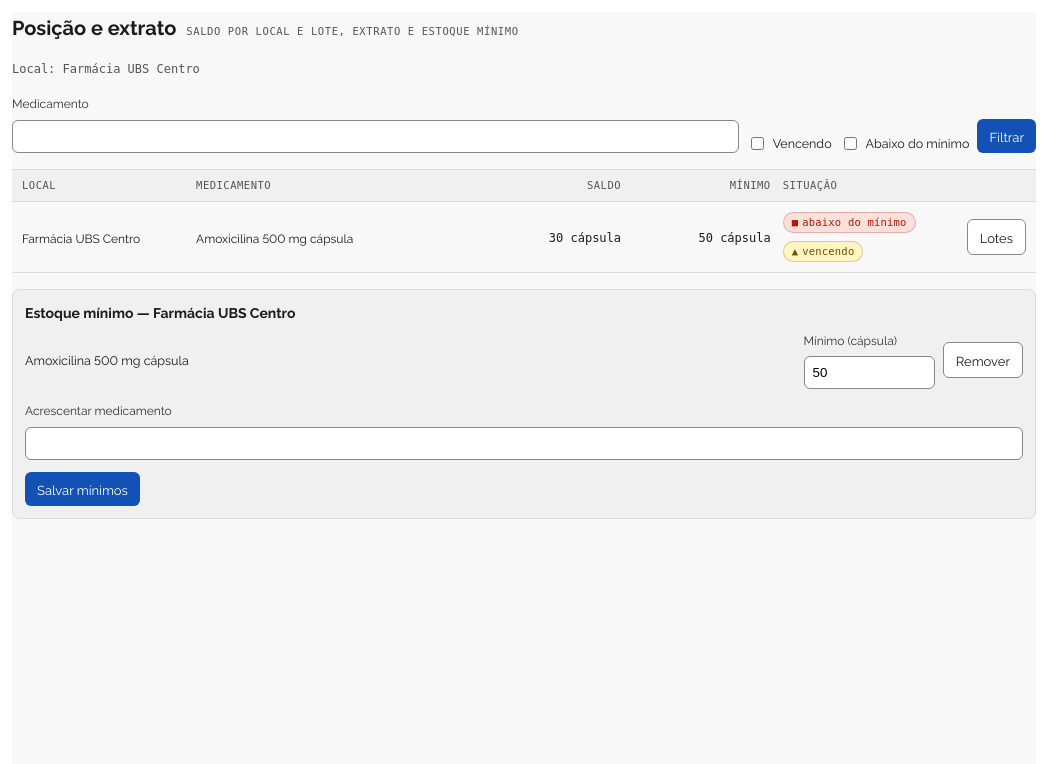
Test: PharmacyStock › extrato do lote: movimentos com sinal e documento; dispensação sem nome de paciente
Click the button with aria-label "Lotes de Amoxicilina 500 mg cápsula" at (996, 237), box [967,219,1026,255]
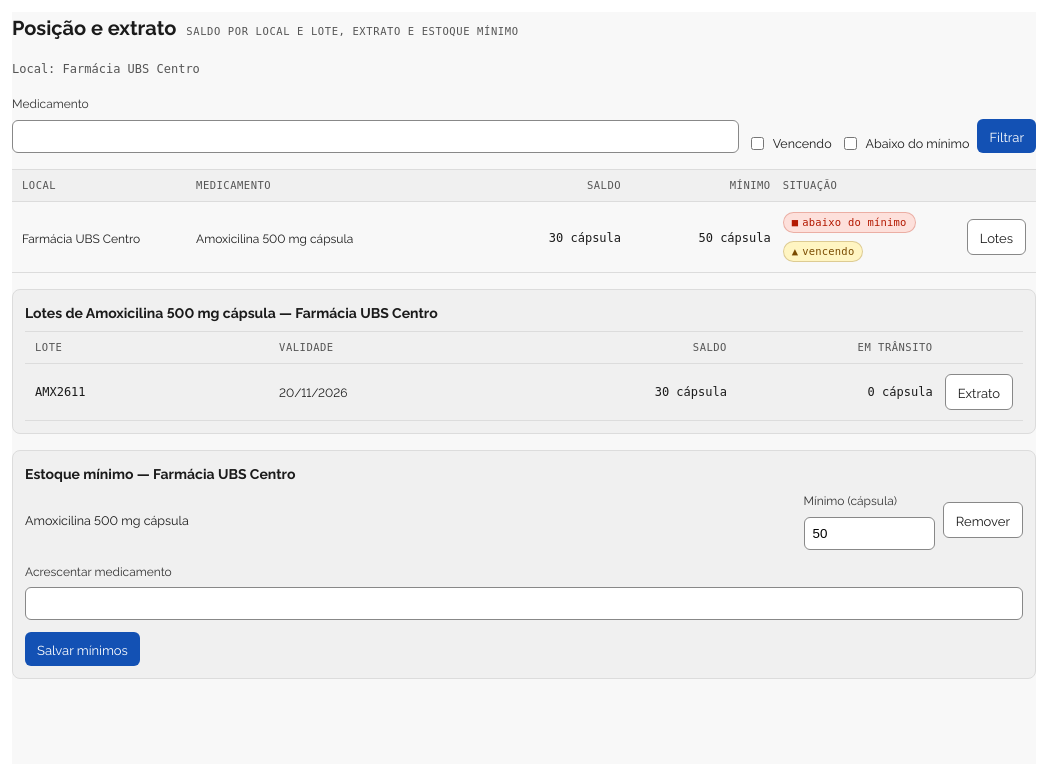
Click the button with aria-label "Extrato do lote AMX2611" at (979, 392), box [945,374,1013,410]
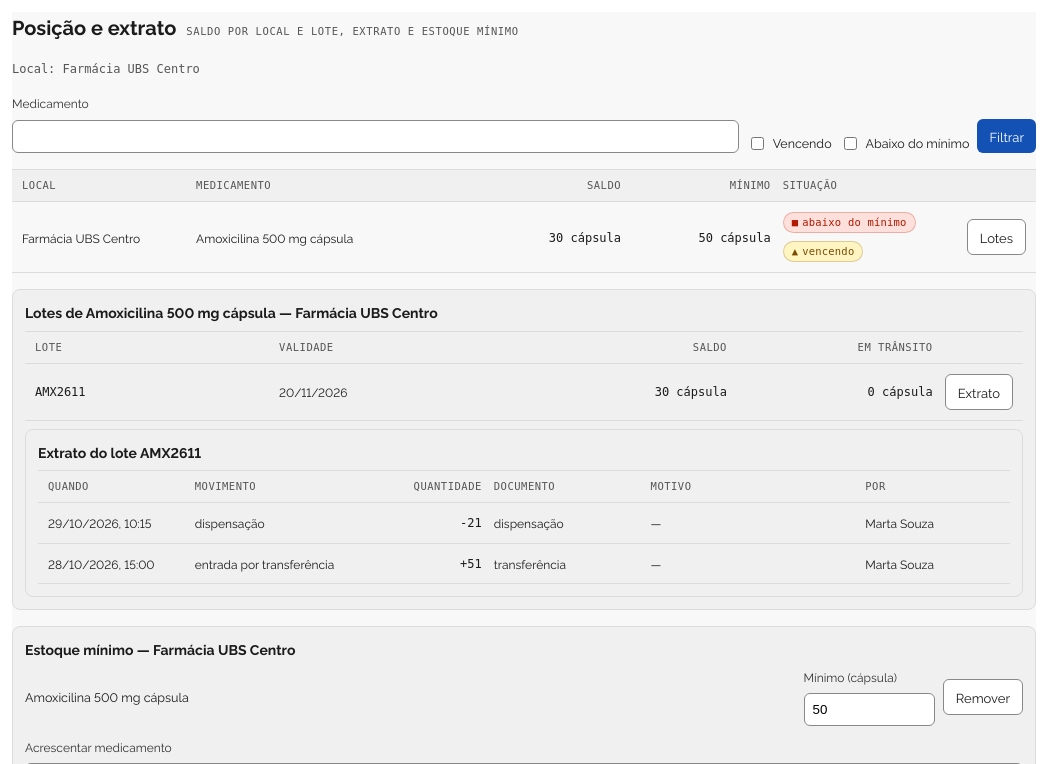
Check: the row "29/10/2026, 10:15 dispensação -21 dispensação — Marta Souza" is shown, box [38,504,1010,544]
Check: the row "entrada por transferência" shows "+51", box [460,557,482,571]
